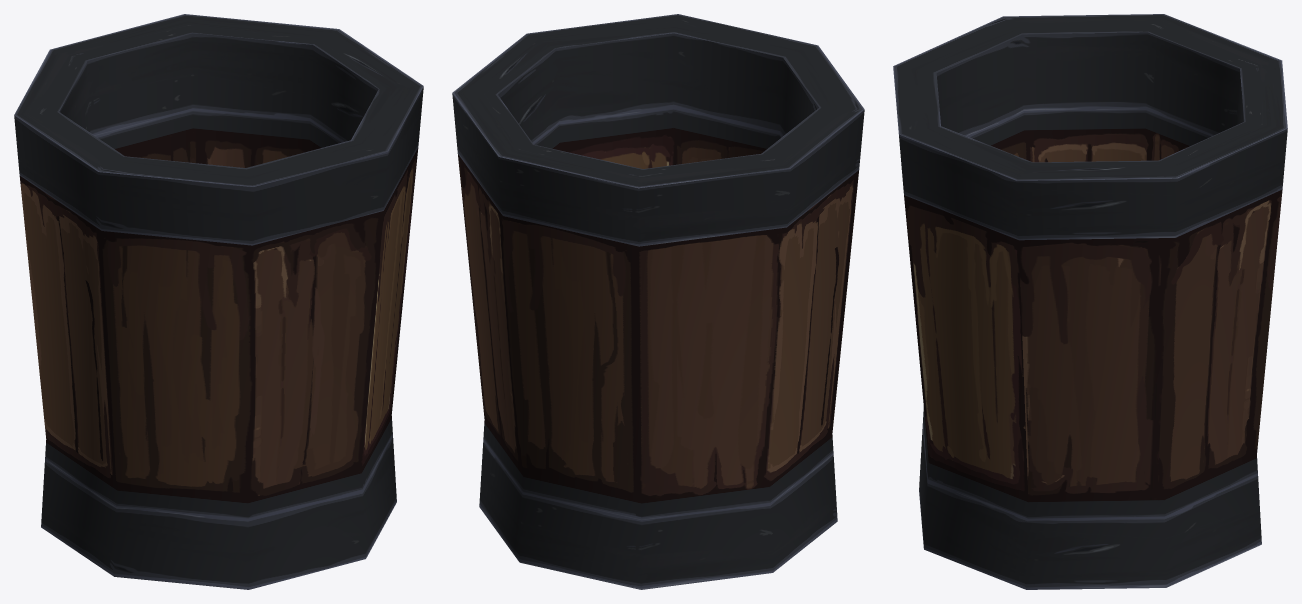
The model's file is SM_PROP_cup_dungeon_04.fbx.
The picture shows the model from 3 angles, left to right: view 1: azimuth 30°, elevation 25°; view 2: azimuth 150°, elevation 25°; view 3: azimuth 270°, elevation 25°; orthographic projection.
Visible parts, largest first — view 1: SM_PROP_cup_dungeon_04; view 2: SM_PROP_cup_dungeon_04; view 3: SM_PROP_cup_dungeon_04.
Boxes of the visible parts, left/top/right/bottom form: SM_PROP_cup_dungeon_04: left=14, top=14, right=423, bottom=589; SM_PROP_cup_dungeon_04: left=452, top=14, right=864, bottom=589; SM_PROP_cup_dungeon_04: left=893, top=14, right=1287, bottom=589.
Bounding box in the file's own units: 13.63 × 16.01 × 13.63.
